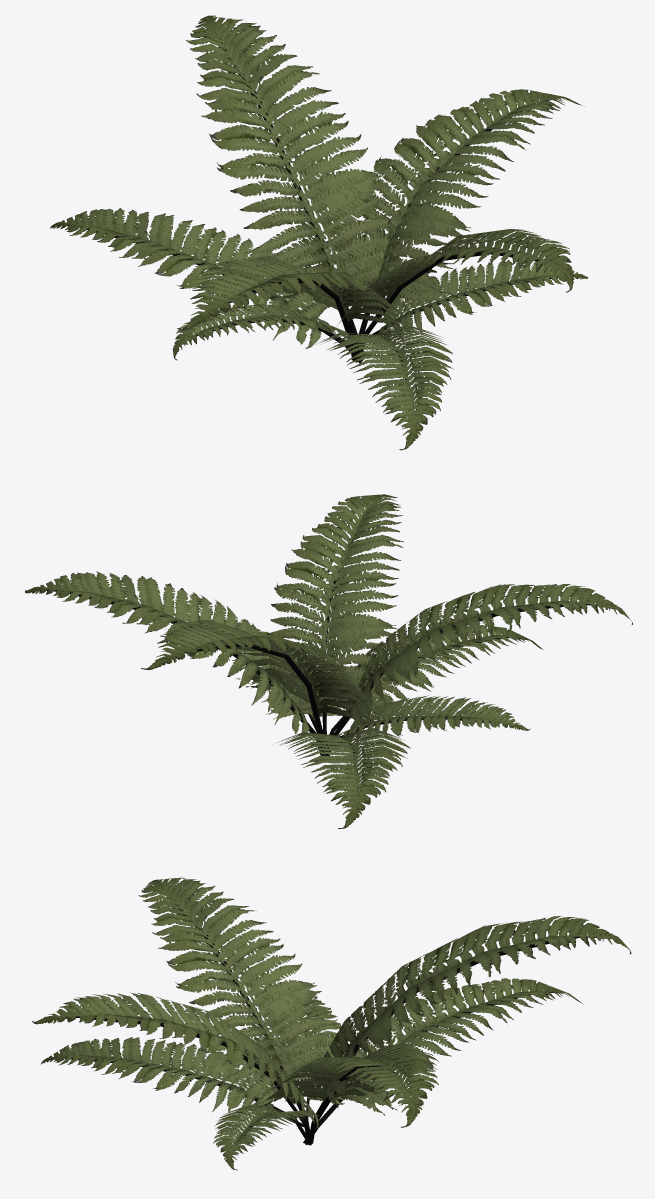
3 renders of one model, top to bottom at view 1: azimuth 30°, elevation 25°; view 2: azimuth 150°, elevation 25°; view 3: azimuth 270°, elevation 25°, orthographic. The views are drawn at different scales.
Parts seen in each view (by area): view 1: body0_model0_lod0_mesh0, body0_model0_lod0_mesh1; view 2: body0_model0_lod0_mesh0, body0_model0_lod0_mesh1; view 3: body0_model0_lod0_mesh0, body0_model0_lod0_mesh1.
Part boxes in pixels (x1=…): body0_model0_lod0_mesh0: x1=50, y1=15, x2=587, y2=450; body0_model0_lod0_mesh1: x1=62, y1=30, x2=557, y2=406; body0_model0_lod0_mesh0: x1=25, y1=494, x2=632, y2=828; body0_model0_lod0_mesh1: x1=32, y1=494, x2=616, y2=800; body0_model0_lod0_mesh0: x1=32, y1=877, x2=631, y2=1170; body0_model0_lod0_mesh1: x1=46, y1=899, x2=611, y2=1145.
Bounding box in the file's own units: 123 × 46.58 × 121.
Materials: 2 (2 with a texture image).
